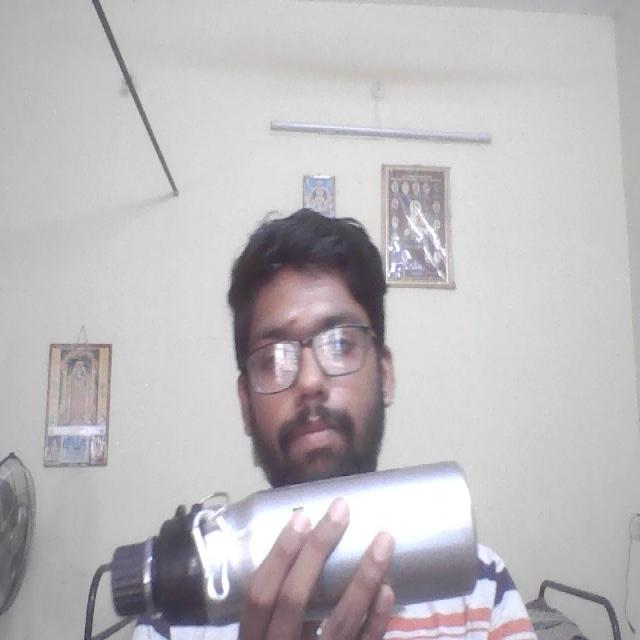Drinking: (99, 452, 488, 640)
